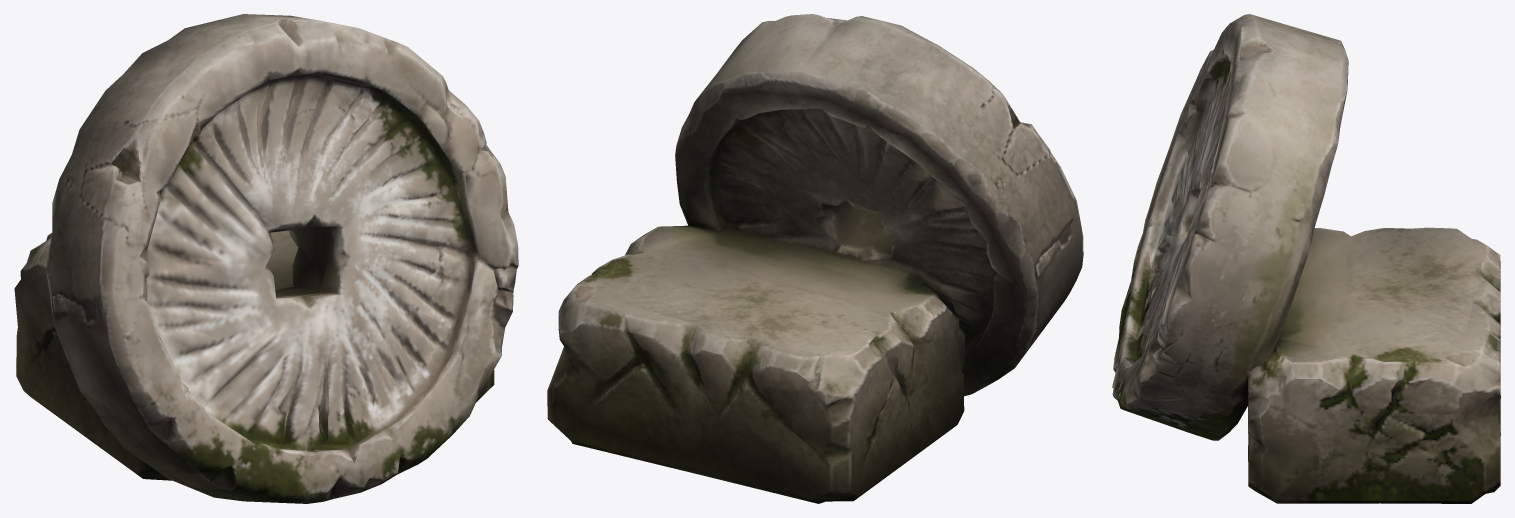
The model's file is Millstone.gltf.
3 renders of one model, left to right at view 1: azimuth 30°, elevation 25°; view 2: azimuth 150°, elevation 25°; view 3: azimuth 270°, elevation 25°, orthographic. The views are drawn at different scales.
Parts seen in each view (by area): view 1: lo; view 2: lo; view 3: lo.
Boxes of the visible parts, x1,y1,x2,y2 form: lo: [14, 14, 518, 503]; lo: [547, 14, 1083, 503]; lo: [1112, 14, 1500, 503].
Size of the model in its own units: 1.69 by 1.65 by 1.5.
Materials: 1 (1 with a texture image).
